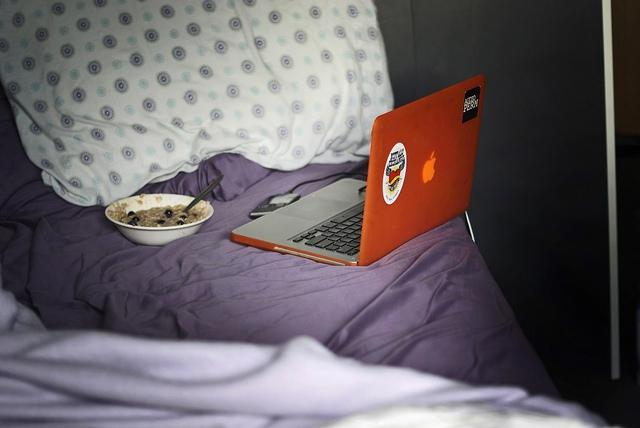apple: (422, 150, 436, 184)
blueberry: (164, 210, 173, 217), (128, 220, 138, 226), (154, 220, 166, 224), (132, 216, 140, 221), (177, 220, 184, 225), (128, 212, 136, 216), (180, 216, 187, 220)
